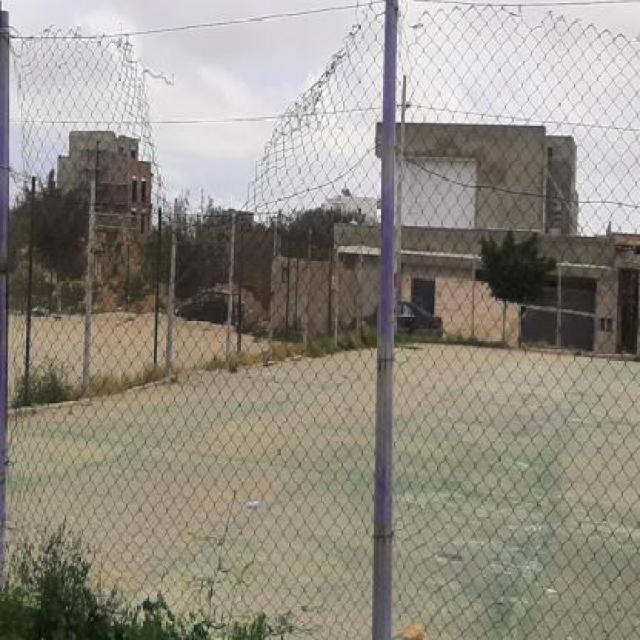fence line: (139, 49, 332, 218)
